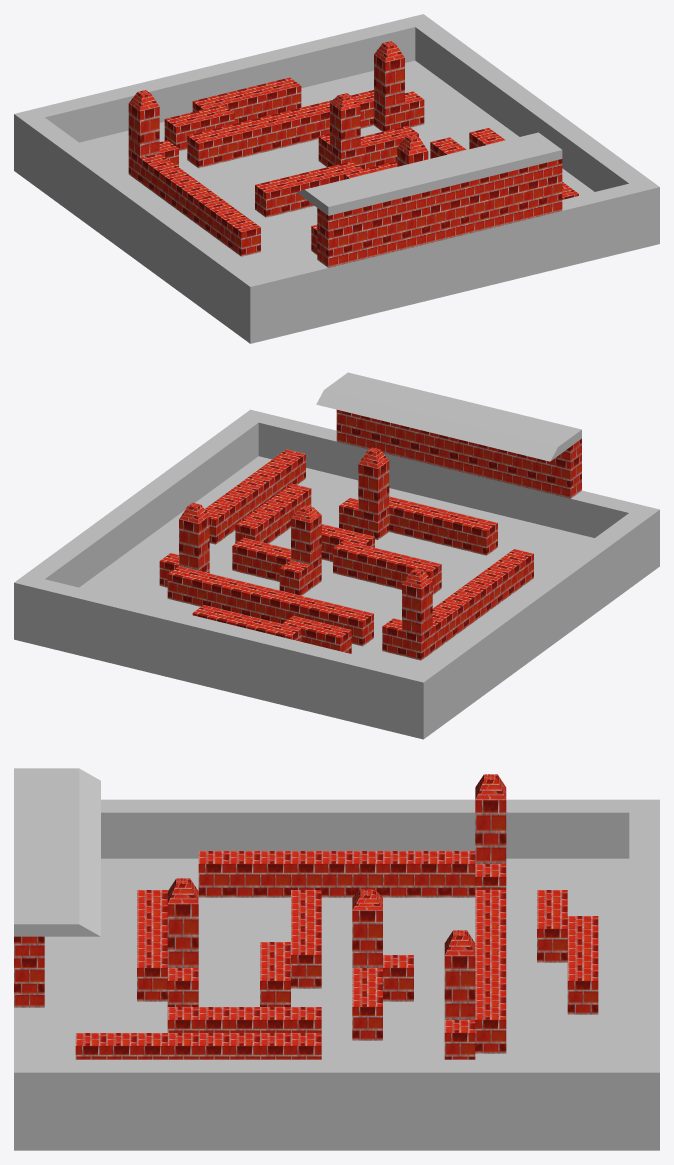
Rendered from rapidMap.fbx.
3 renders of one model, top to bottom at view 1: azimuth 30°, elevation 25°; view 2: azimuth 150°, elevation 25°; view 3: azimuth 270°, elevation 25°, orthographic. The views are drawn at different scales.
Parts seen in each view (by area): view 1: map, walls; view 2: map, walls; view 3: map, walls.
Boxes of the visible parts, left/top/right/bottom form: map: left=14, top=14, right=659, bottom=343; walls: left=128, top=41, right=578, bottom=256; map: left=14, top=372, right=659, bottom=739; walls: left=159, top=447, right=533, bottom=660; map: left=14, top=768, right=659, bottom=1150; walls: left=75, top=774, right=598, bottom=1059.
Size of the model in its own units: 8608 by 2368 by 8608.
